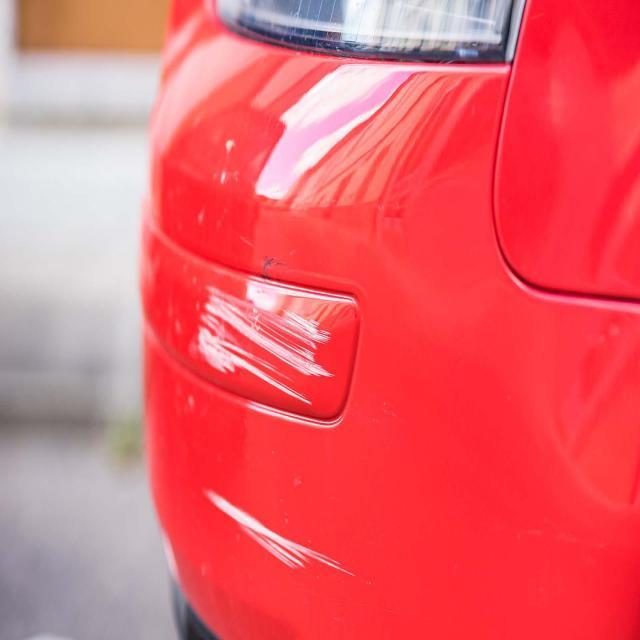scratch: (186, 264, 362, 432), (188, 482, 354, 594)
